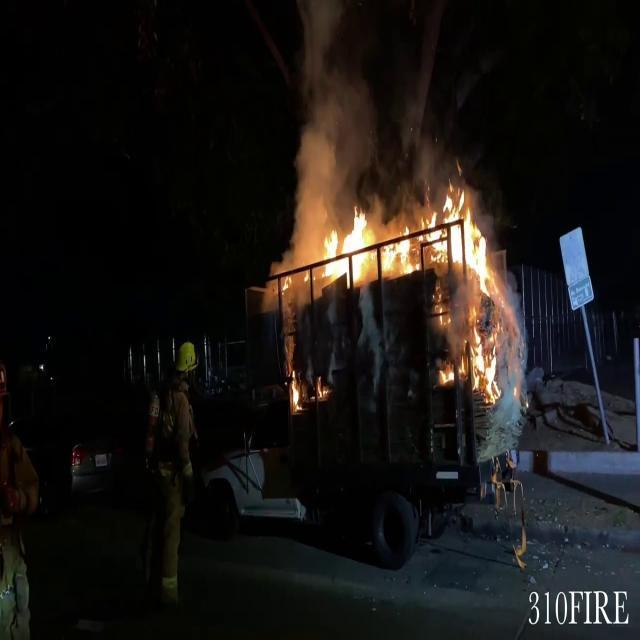Fire: (429, 180, 507, 398), (317, 203, 383, 294)
Smoke: (288, 0, 378, 243)
